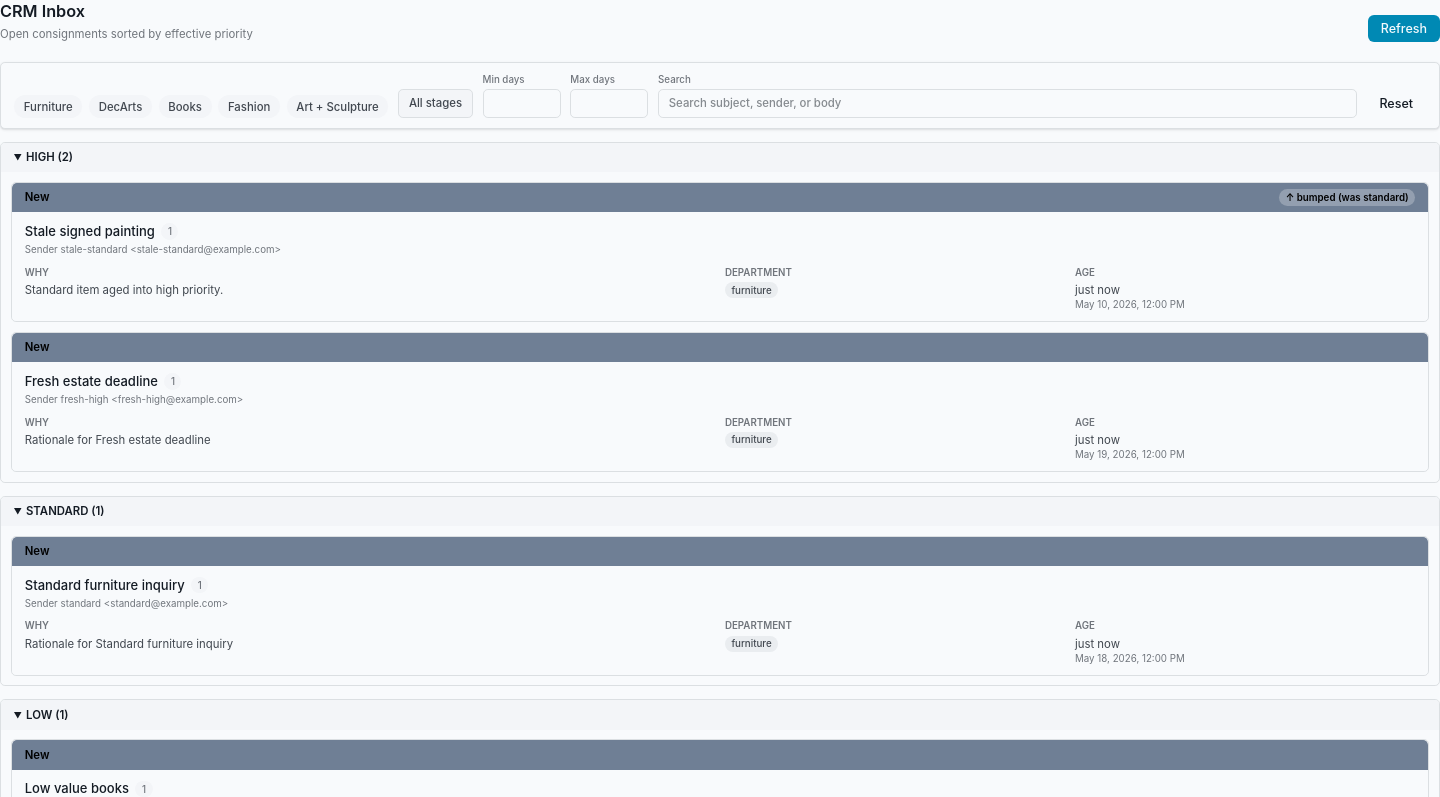
Test: CRMInbox › shows a red error toast when the poll endpoint fails
This screenshot has width=1440, height=797.
Click the button "Refresh": (1404, 28) [1368, 14, 1439, 42]
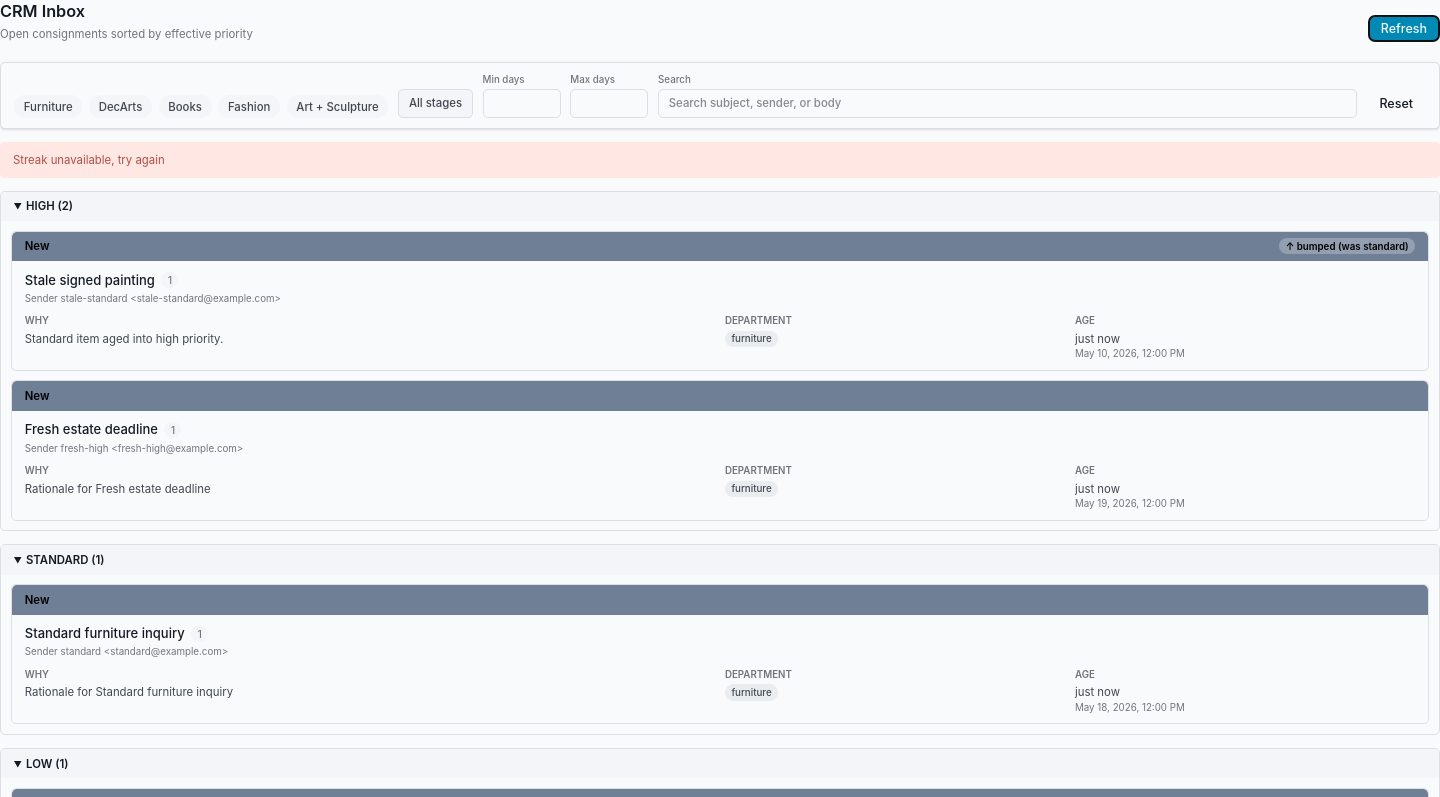
Check: the message reads "Streak unavailable, try again", box [13, 152, 165, 166]
